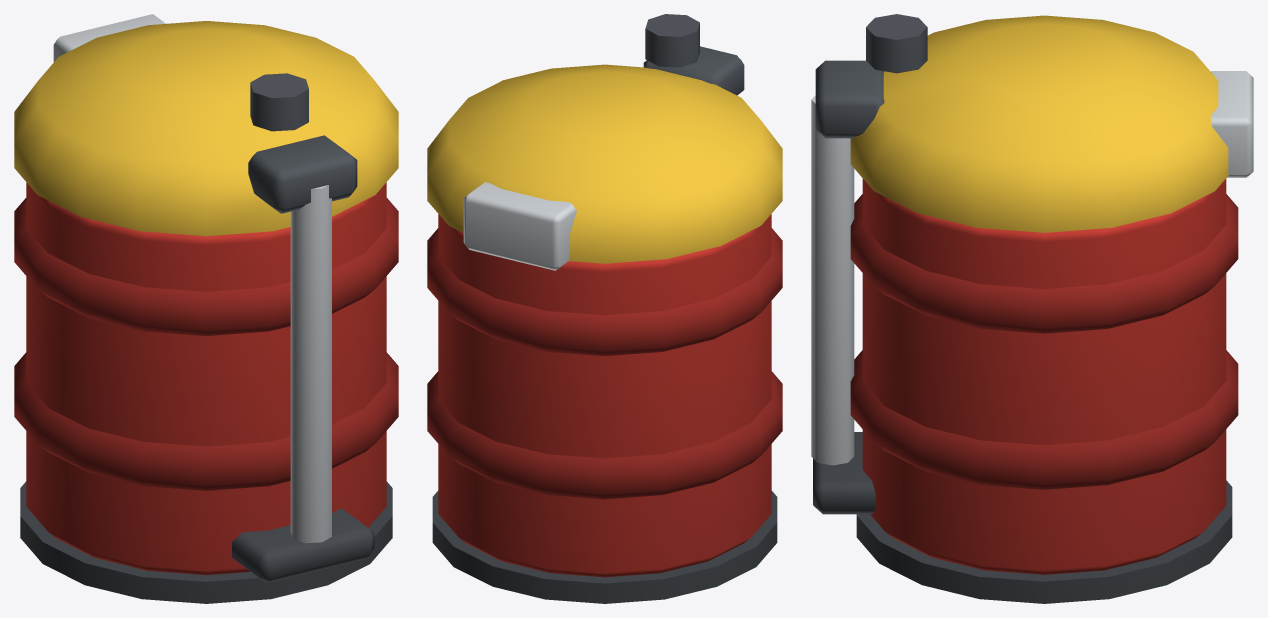
The model's file is SM_OilyRagCan_01.glb.
3 renders of one model, left to right at view 1: azimuth 30°, elevation 25°; view 2: azimuth 150°, elevation 25°; view 3: azimuth 270°, elevation 25°, orthographic. The views are drawn at different scales.
Visible parts, largest first — view 1: SM_OilyRagCan_01; view 2: SM_OilyRagCan_01; view 3: SM_OilyRagCan_01.
Boxes of the visible parts, x1,y1,x2,y2 form: SM_OilyRagCan_01: (14,14,398,603); SM_OilyRagCan_01: (427,14,782,603); SM_OilyRagCan_01: (811,14,1253,603).
Size of the model in its own units: 0.32 by 0.445 by 0.3595.
Materials: 1 (1 with a texture image).
